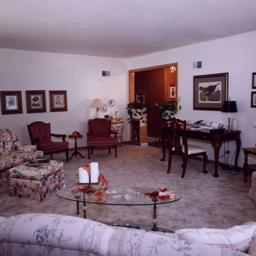Matera: (126, 100, 145, 121), (158, 104, 177, 118)
